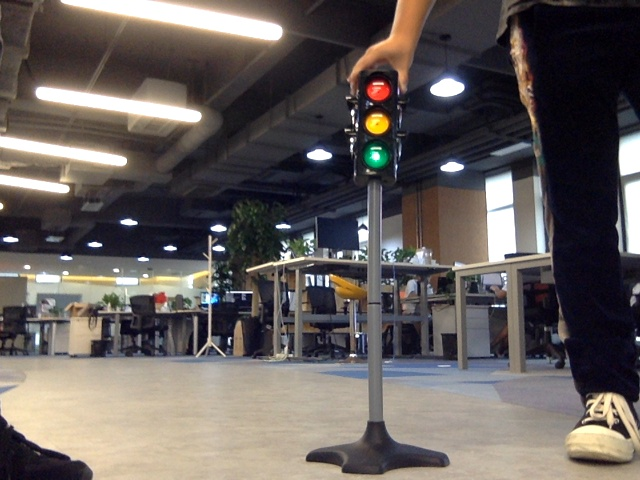green: (359, 83, 393, 176)
